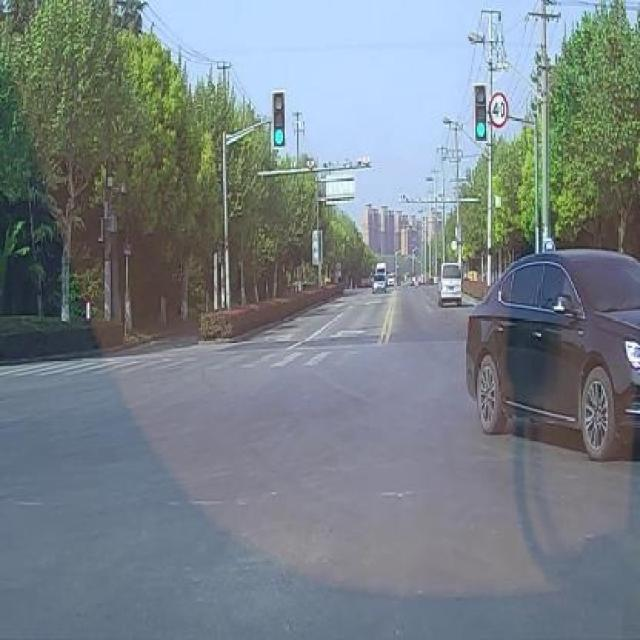forb_speed_over_40: (490, 93, 508, 127)
